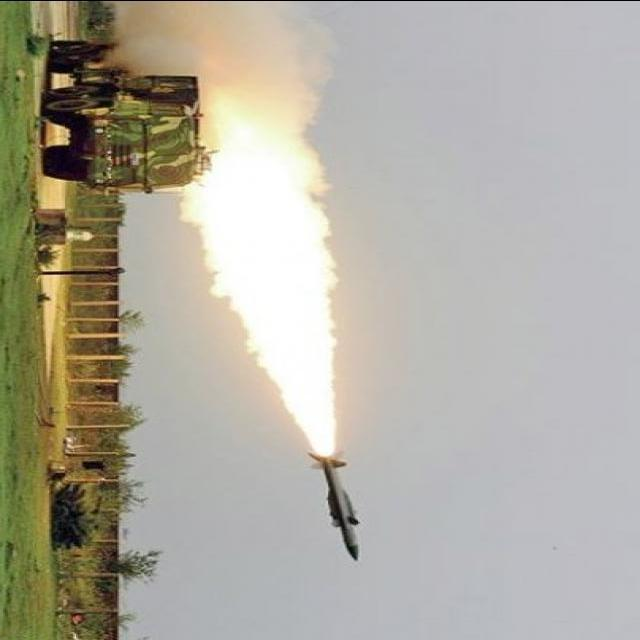missile: (308, 457, 363, 569)
